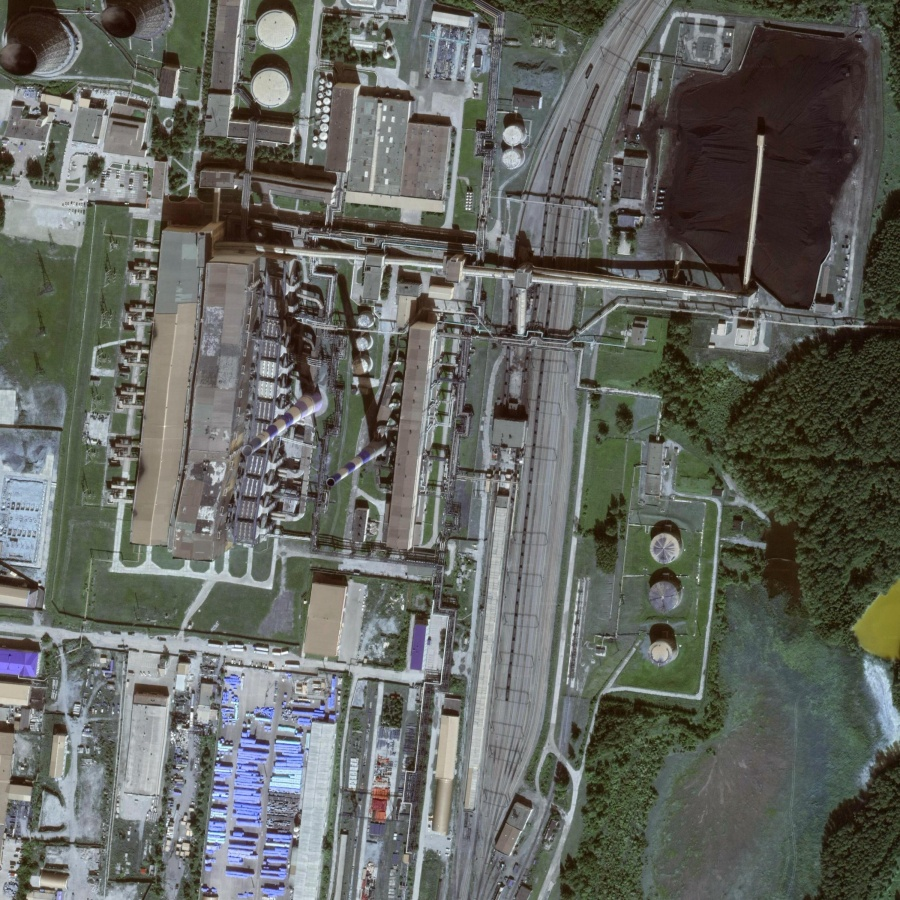PowerPlant: (597, 4, 867, 319), (212, 189, 465, 517), (571, 506, 719, 681)
